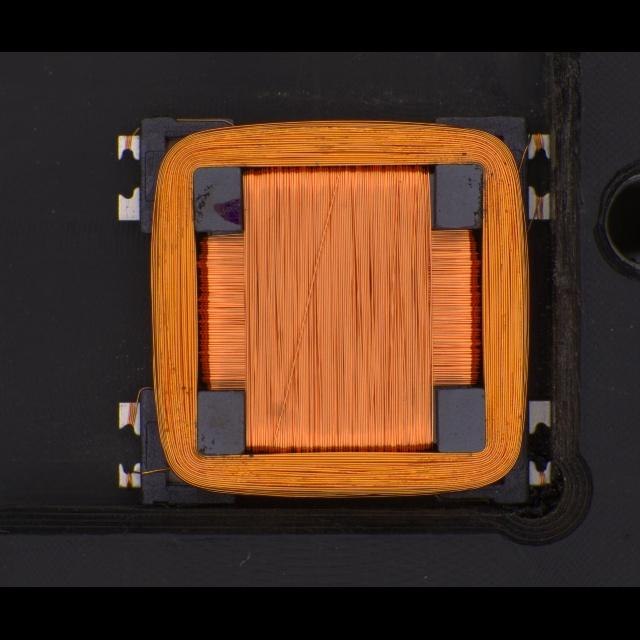Winding_Z: (133, 116, 532, 501)
